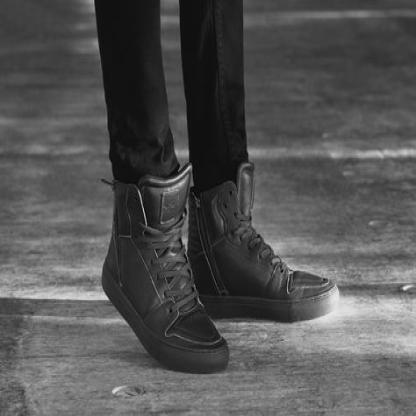ankle: (217, 197, 221, 201), (138, 213, 141, 218)
heel: (107, 261, 110, 266), (227, 289, 229, 293)
left_foot: (211, 179, 340, 323)
pinky: (181, 343, 184, 347), (319, 280, 320, 282)
right_foot: (103, 209, 225, 374)
toe: (218, 337, 222, 342), (321, 297, 323, 302)
